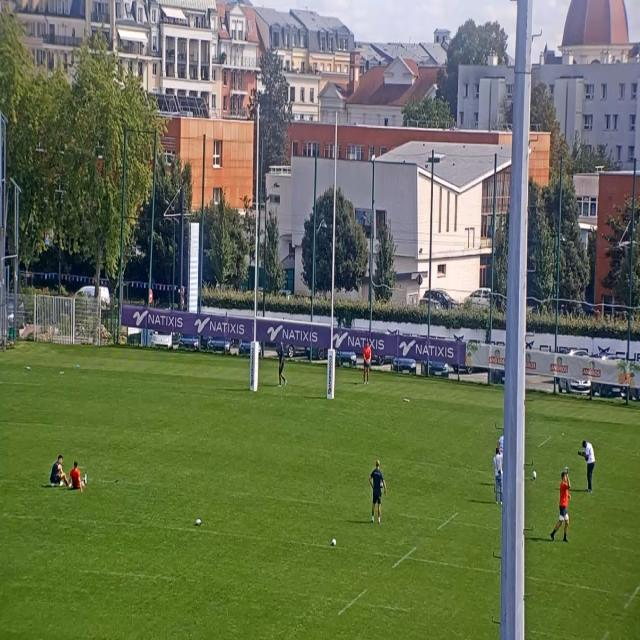rugby ball: (328, 528, 339, 552), (194, 513, 204, 534), (529, 467, 539, 480)
rugby play: (367, 456, 389, 526), (482, 433, 506, 496), (556, 461, 574, 538), (577, 432, 599, 491), (274, 334, 288, 389), (66, 455, 86, 493), (359, 331, 374, 380), (48, 449, 66, 486)
